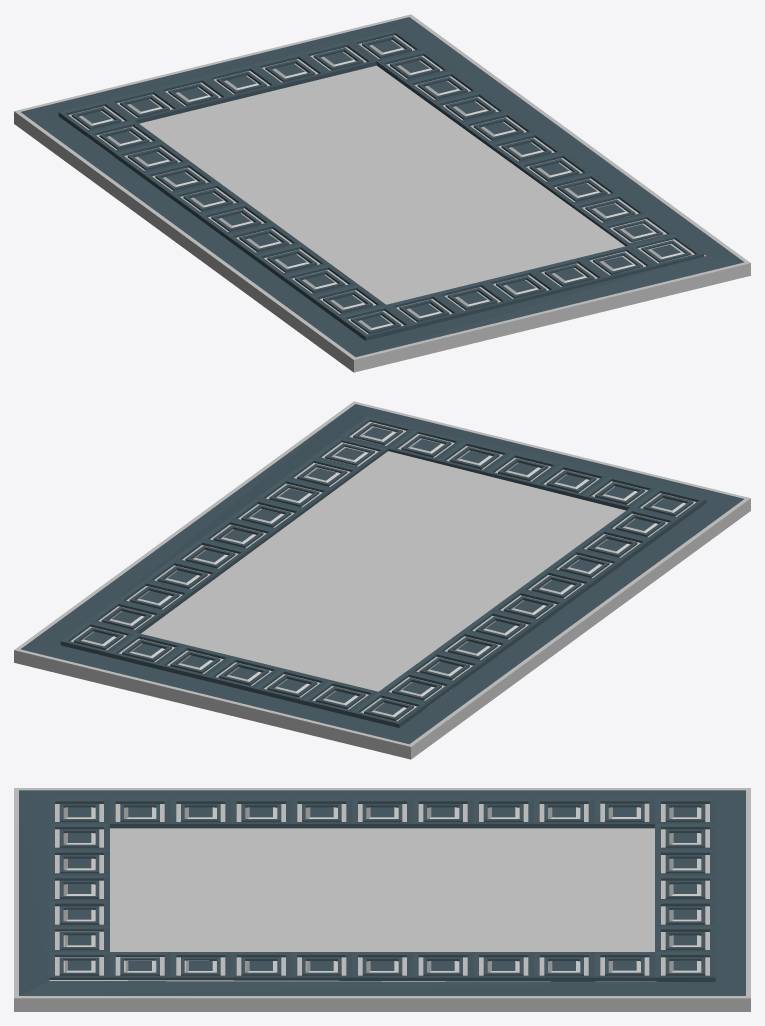
The picture shows the model from 3 angles, top to bottom: view 1: azimuth 30°, elevation 25°; view 2: azimuth 150°, elevation 25°; view 3: azimuth 270°, elevation 25°; orthographic projection. The views are drawn at different scales.
Size of the model in its own units: 1.97 by 0.0803 by 2.92.
